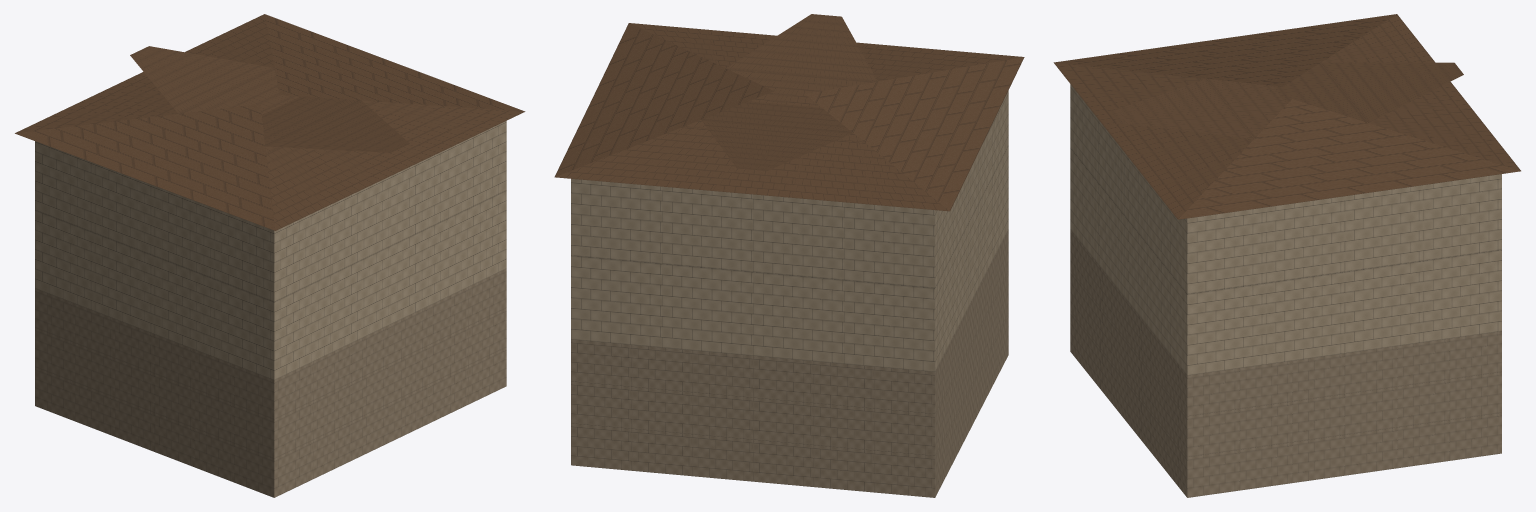
File: bld_c43_33_259.gltf
3 renders of one model, left to right at view 1: azimuth 30°, elevation 25°; view 2: azimuth 150°, elevation 25°; view 3: azimuth 270°, elevation 25°, orthographic. The views are drawn at different scales.
Parts seen in each view (by area): view 1: bld_c43_33_259; view 2: bld_c43_33_259; view 3: bld_c43_33_259.
Part boxes in pixels (x1=…): bld_c43_33_259: x1=15, y1=14, x2=525, y2=497; bld_c43_33_259: x1=554, y1=14, x2=1024, y2=497; bld_c43_33_259: x1=1053, y1=14, x2=1520, y2=497.
Size of the model in its own units: 18.41 by 12.9 by 17.69.
Materials: 3 (3 with a texture image).
